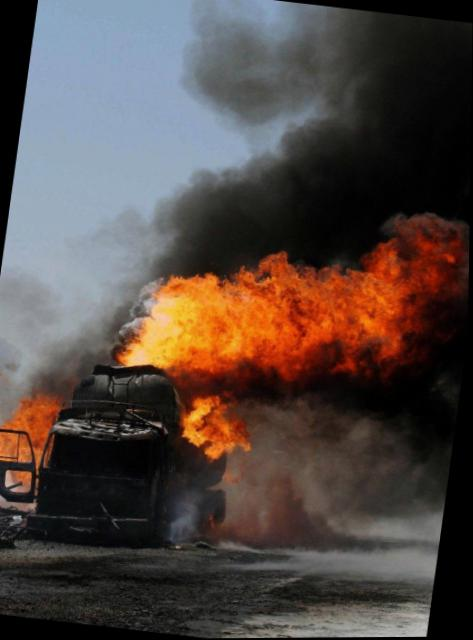fire: (95, 174, 461, 484), (0, 389, 67, 508)
